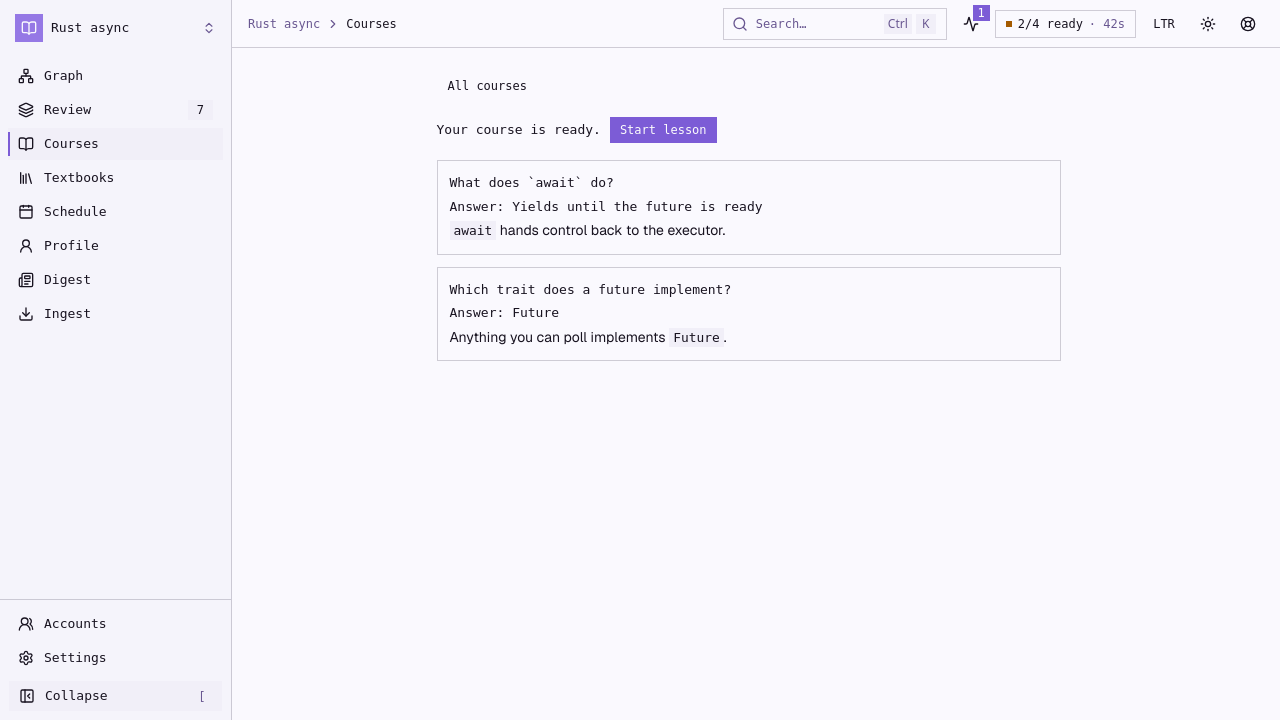
Test: Method lesson bout › shows the lock, not the lesson, inside the gap between bouts
The width and height of the screenshot is (1280, 720).
Click the button "Start lesson" at (663, 130), box [609,116,718,144]
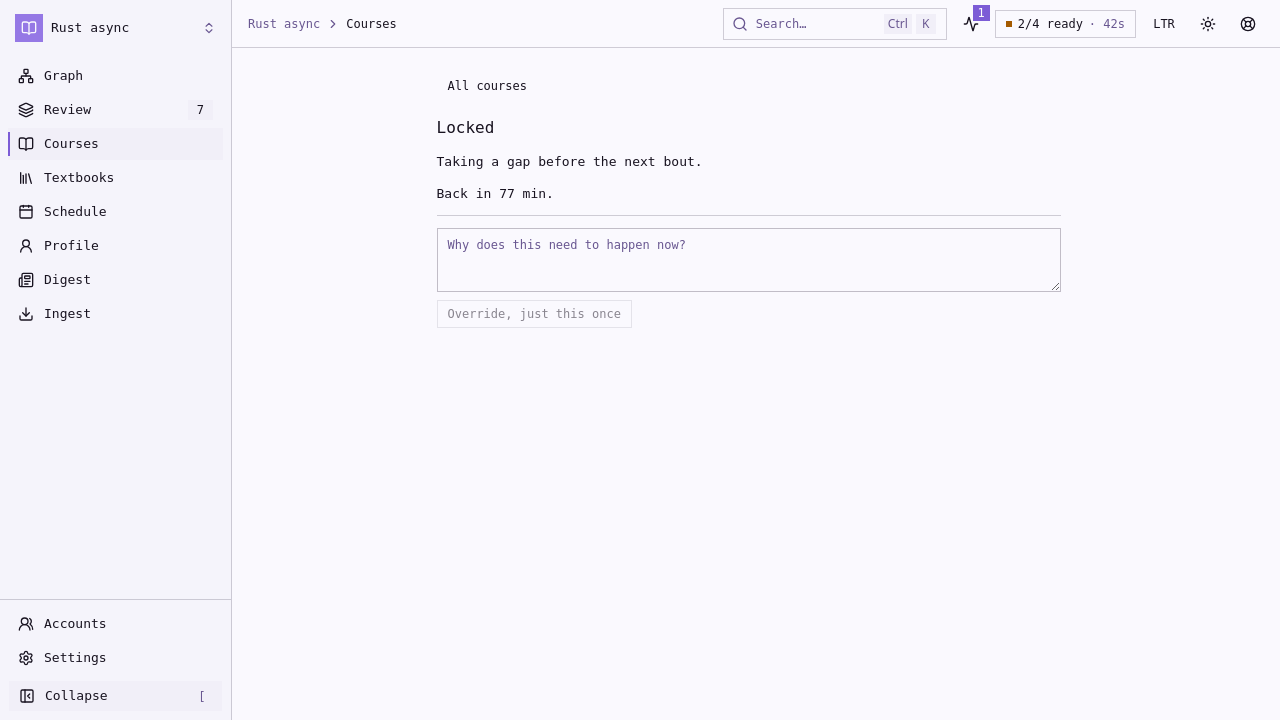
Now the element with test id "screen-locked" is shown, box [436,116,1060,328]
Now the text with test id "locked-time-left" shows "77", box [499,186,515,200]
